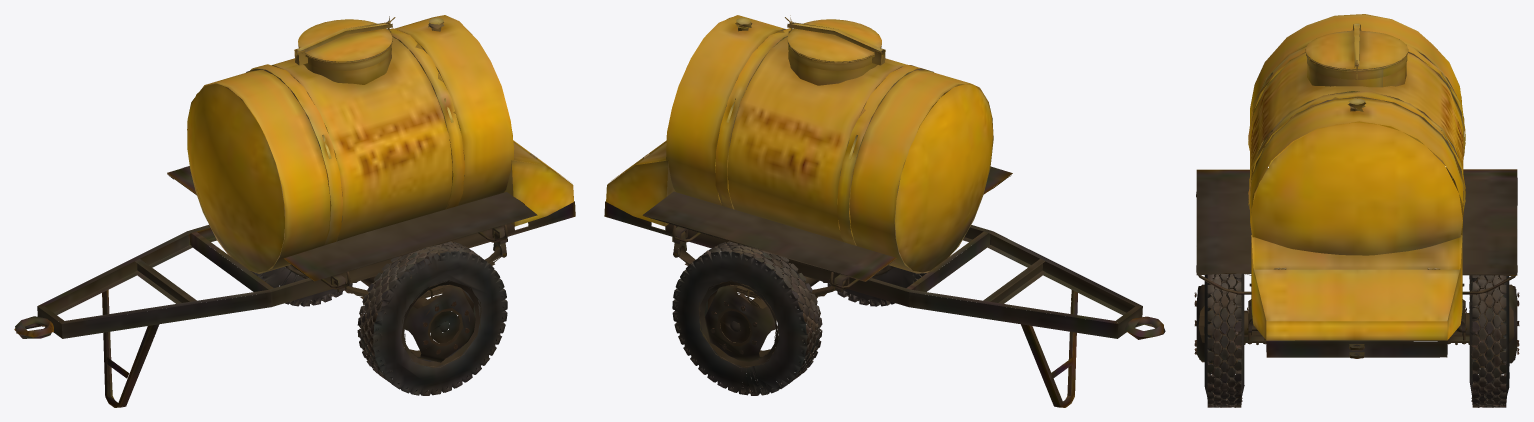
Rendered from kvass.glb.
3 renders of one model, left to right at view 1: azimuth 30°, elevation 25°; view 2: azimuth 150°, elevation 25°; view 3: azimuth 270°, elevation 25°, orthographic. The views are drawn at different scales.
Parts seen in each view (by area): view 1: Object_3, Object_2, Object_4, Object_5, Object_13, Object_9, Object_8, Object_7, Object_6; view 2: Object_3, Object_2, Object_4, Object_6, Object_13, Object_9, Object_5, Object_8; view 3: Object_3, Object_2, Object_13, Object_9, Object_5, Object_6, Object_4, Object_8, Object_10.
Part boxes in pixels (<box>): Object_3: <box>187,15,514,300</box>; Object_2: <box>102,17,573,407</box>; Object_4: <box>37,201,575,338</box>; Object_5: <box>256,241,507,395</box>; Object_13: <box>167,22,537,368</box>; Object_9: <box>298,19,537,289</box>; Object_8: <box>14,16,505,348</box>; Object_7: <box>359,244,440,343</box>; Object_6: <box>251,247,439,382</box>; Object_3: <box>666,15,993,299</box>; Object_2: <box>606,17,1077,407</box>; Object_4: <box>604,201,1142,338</box>; Object_6: <box>672,241,926,395</box>; Object_13: <box>642,22,1012,368</box>; Object_9: <box>643,19,881,289</box>; Object_5: <box>722,242,920,395</box>; Object_8: <box>674,15,1165,351</box>; Object_3: <box>1249,14,1464,335</box>; Object_2: <box>1196,44,1517,363</box>; Object_13: <box>1196,23,1517,368</box>; Object_9: <box>1196,30,1517,294</box>; Object_5: <box>1204,273,1509,407</box>; Object_6: <box>1469,275,1509,407</box>; Object_4: <box>1247,307,1466,357</box>; Object_8: <box>1196,60,1517,351</box>; Object_10: <box>1244,299,1469,344</box>.
Size of the model in its own units: 3.6 by 2.12 by 1.77.
1 material, 1 textured.
